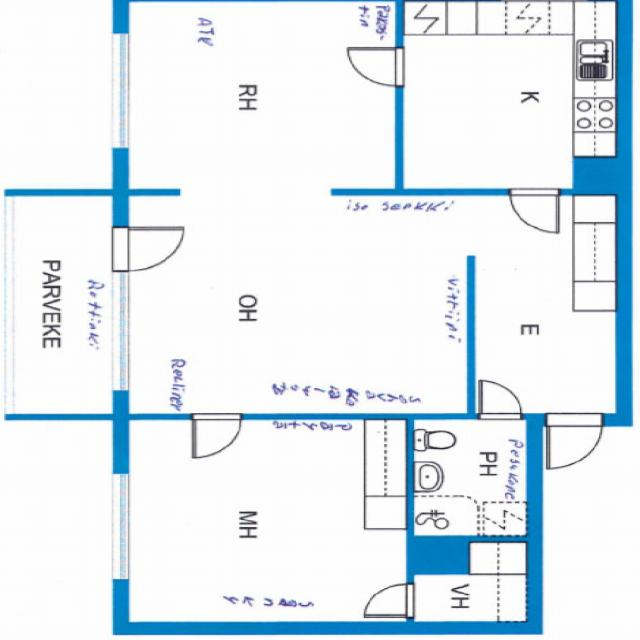door: (112, 226, 182, 268), (548, 413, 601, 468), (509, 189, 559, 233), (192, 413, 240, 456), (349, 48, 403, 85), (362, 584, 413, 618), (480, 383, 518, 419)
